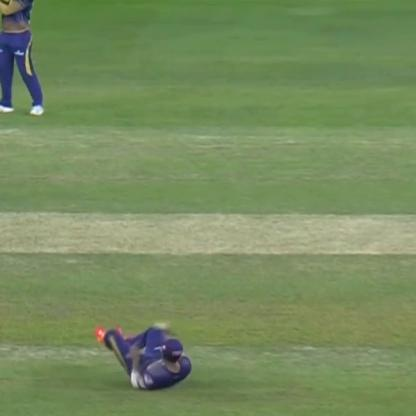ball: (152, 321, 168, 333)
